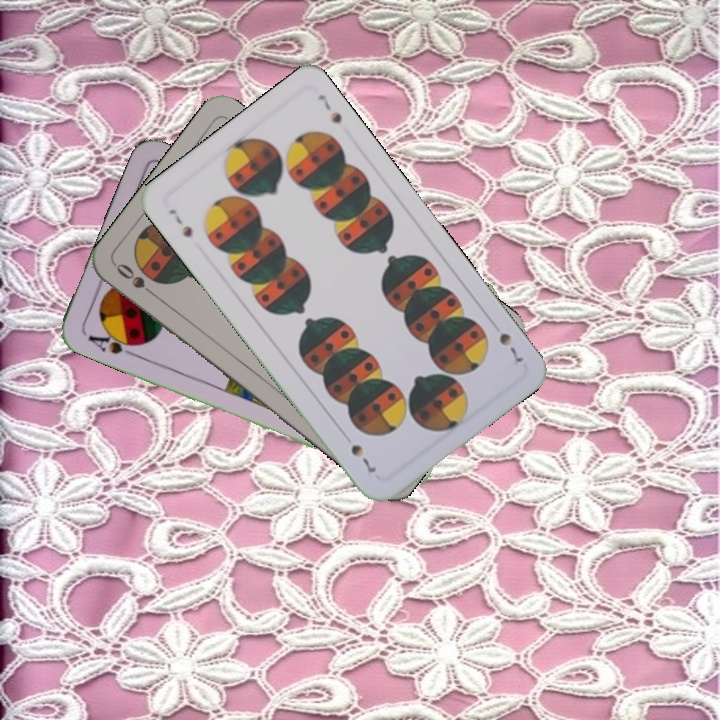S7: (494, 328, 527, 369), (165, 205, 196, 241)
SA: (84, 326, 142, 359)
SO: (111, 259, 162, 302)
